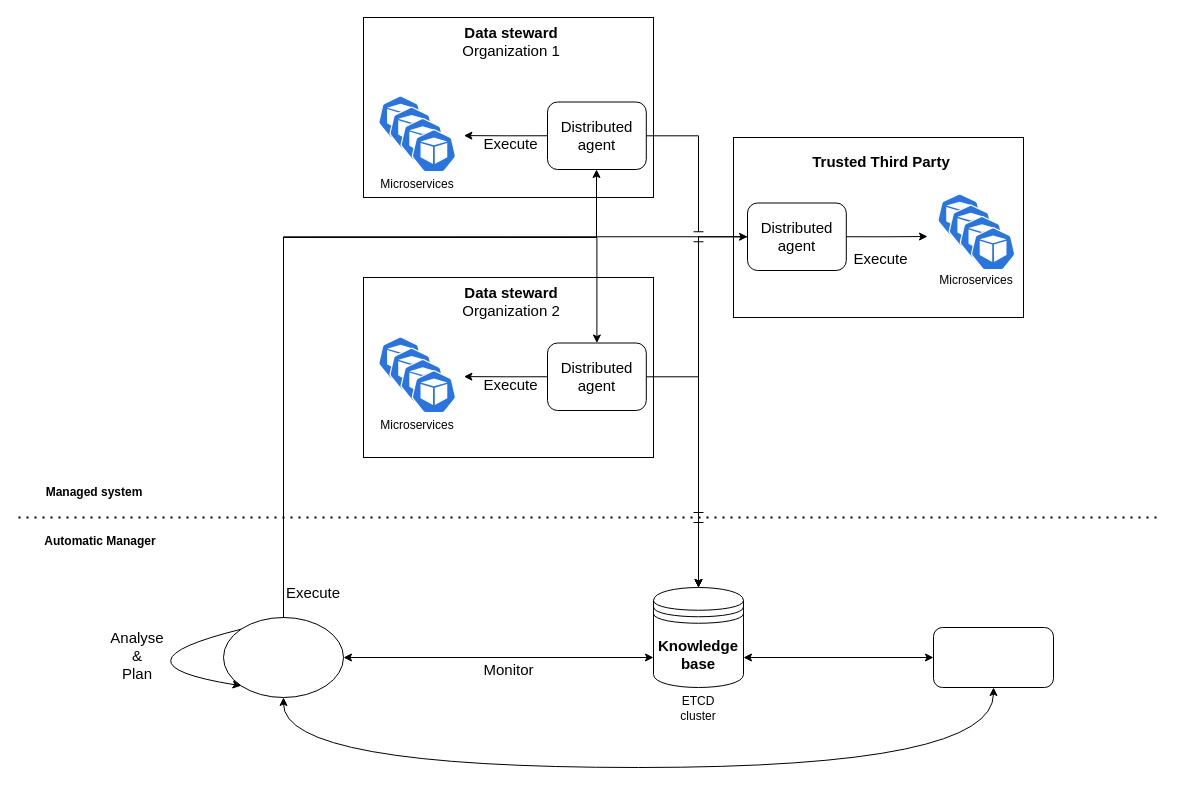
Some shapes in this 1177 by 785 pixel diagram are drawn without their labels. The shapes that lost their labels are listed below. From the top down, each one's centre as x and y in pixels, then its label:
At [283,657]: "Orchestrator".
At [993,657]: "Reasoner".
